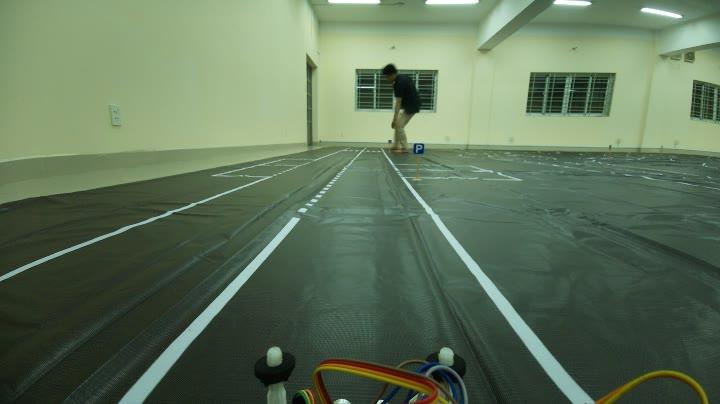parking: (409, 137, 430, 160)
